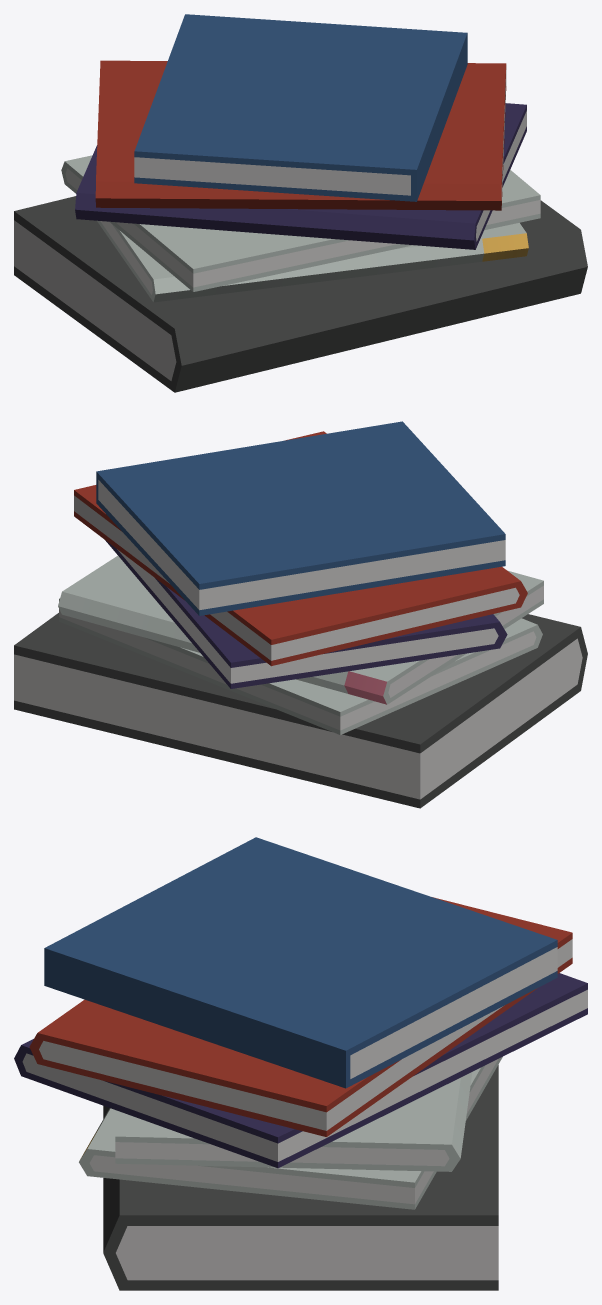
The model's file is SM_Prop_Book_Group_08.obj.
3 views of the same model, one above another, from view 1: azimuth 30°, elevation 25°; view 2: azimuth 150°, elevation 25°; view 3: azimuth 270°, elevation 25° (orthographic). The views are drawn at different scales.
Visible parts, largest first — view 1: SM_Prop_Book_Group_08_M_PolygonOffice_01_A; view 2: SM_Prop_Book_Group_08_M_PolygonOffice_01_A; view 3: SM_Prop_Book_Group_08_M_PolygonOffice_01_A.
Boxes of the visible parts, left/top/right/bottom form: SM_Prop_Book_Group_08_M_PolygonOffice_01_A: left=14, top=14, right=587, bottom=392; SM_Prop_Book_Group_08_M_PolygonOffice_01_A: left=14, top=421, right=587, bottom=808; SM_Prop_Book_Group_08_M_PolygonOffice_01_A: left=14, top=837, right=587, bottom=1290.
Bounding box in the file's own units: 0.4044 × 0.1741 × 0.394.
1 material, 1 textured.
